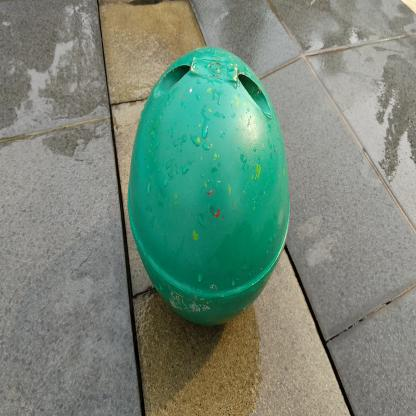green_buoy: (122, 43, 294, 335)
